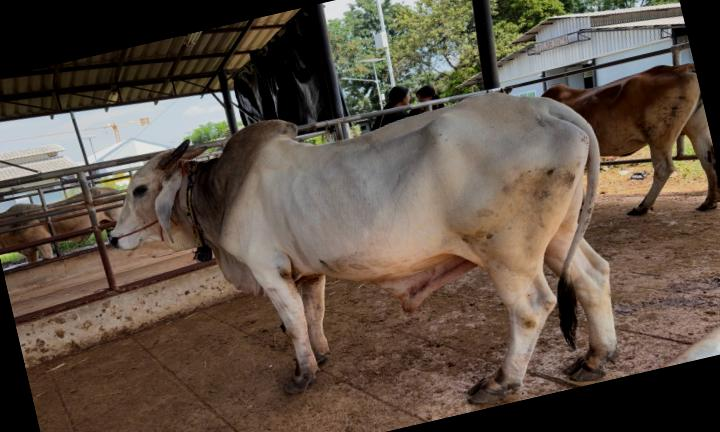Brahman: (113, 93, 617, 403)
